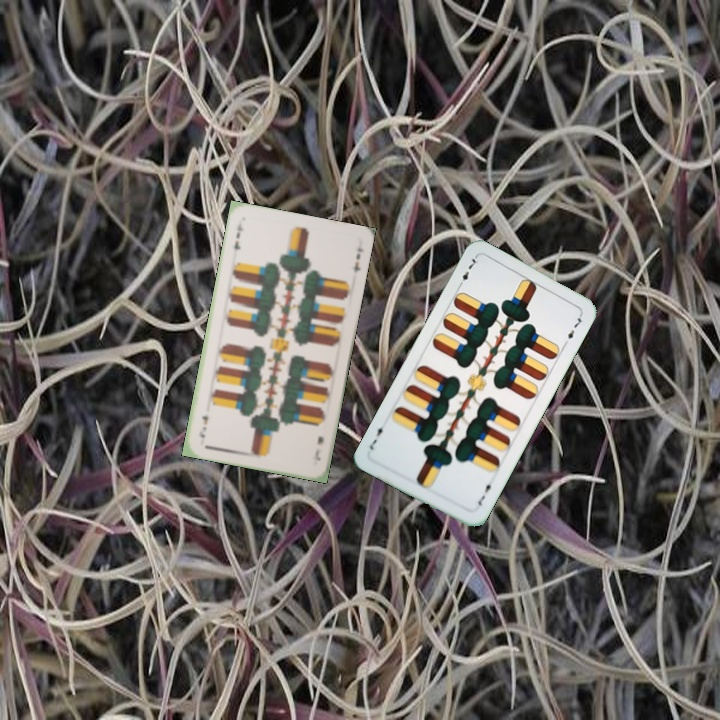E7: (455, 253, 481, 290), (474, 477, 496, 509), (230, 218, 246, 253), (311, 432, 326, 463)
